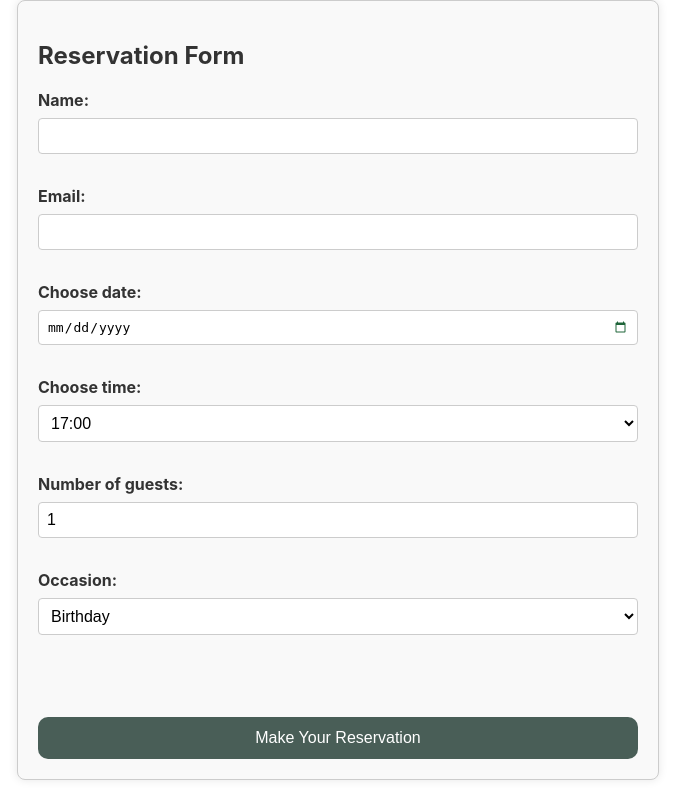
Test: BookingForm Component › does not submit a reservation for a past date
The image size is (677, 810).
Type "John" into the field labelled "Name:" at [338, 136], box [38,118,638,154]
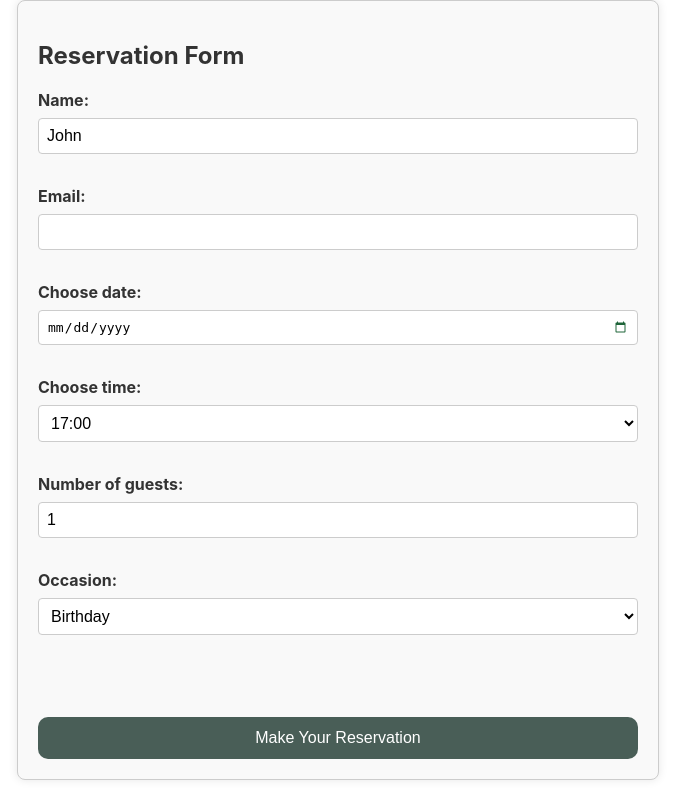
Type "john@example.com" into the field labelled "Email:" at [338, 232], box [38,214,638,250]
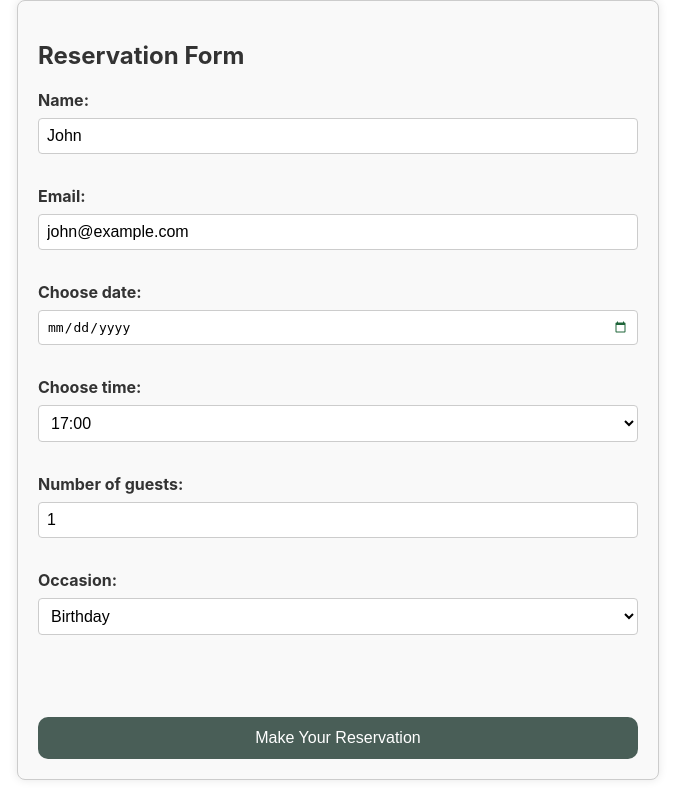
Type "2000-01-01" into the date field labelled "Choose date:" at [338, 327], box [38,310,638,345]
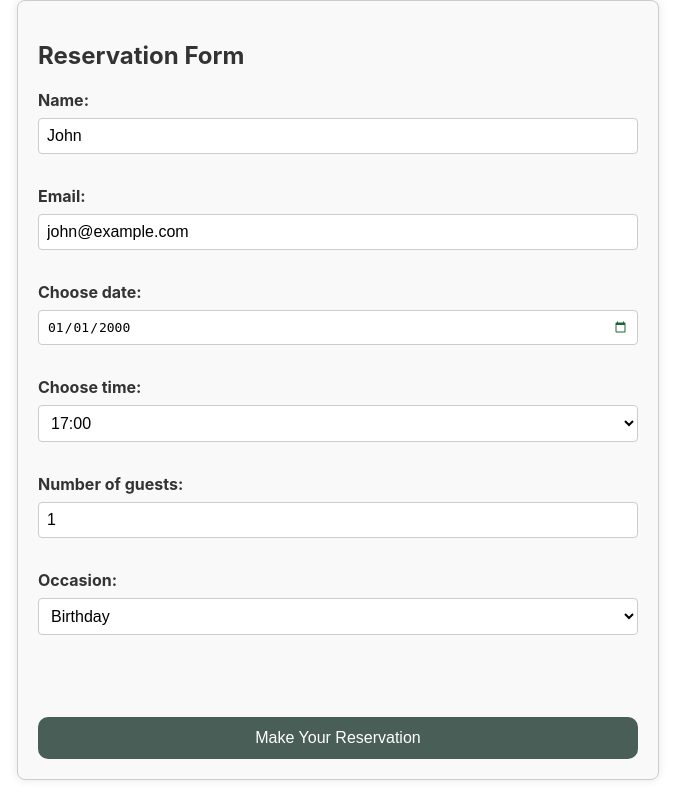
Submit the form with class "booking-form"
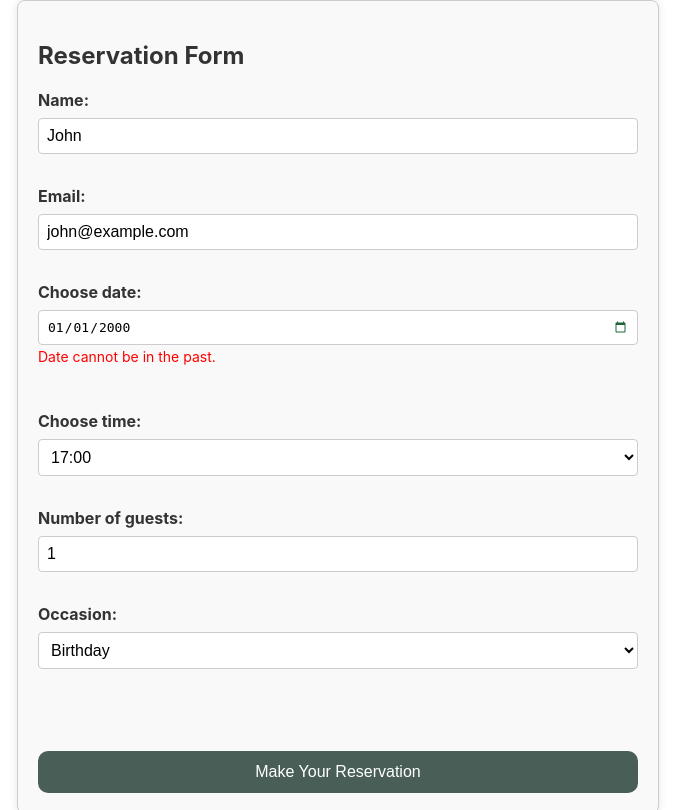
Expected: the text "Date cannot be in the past." is shown, [38,348,216,365]
